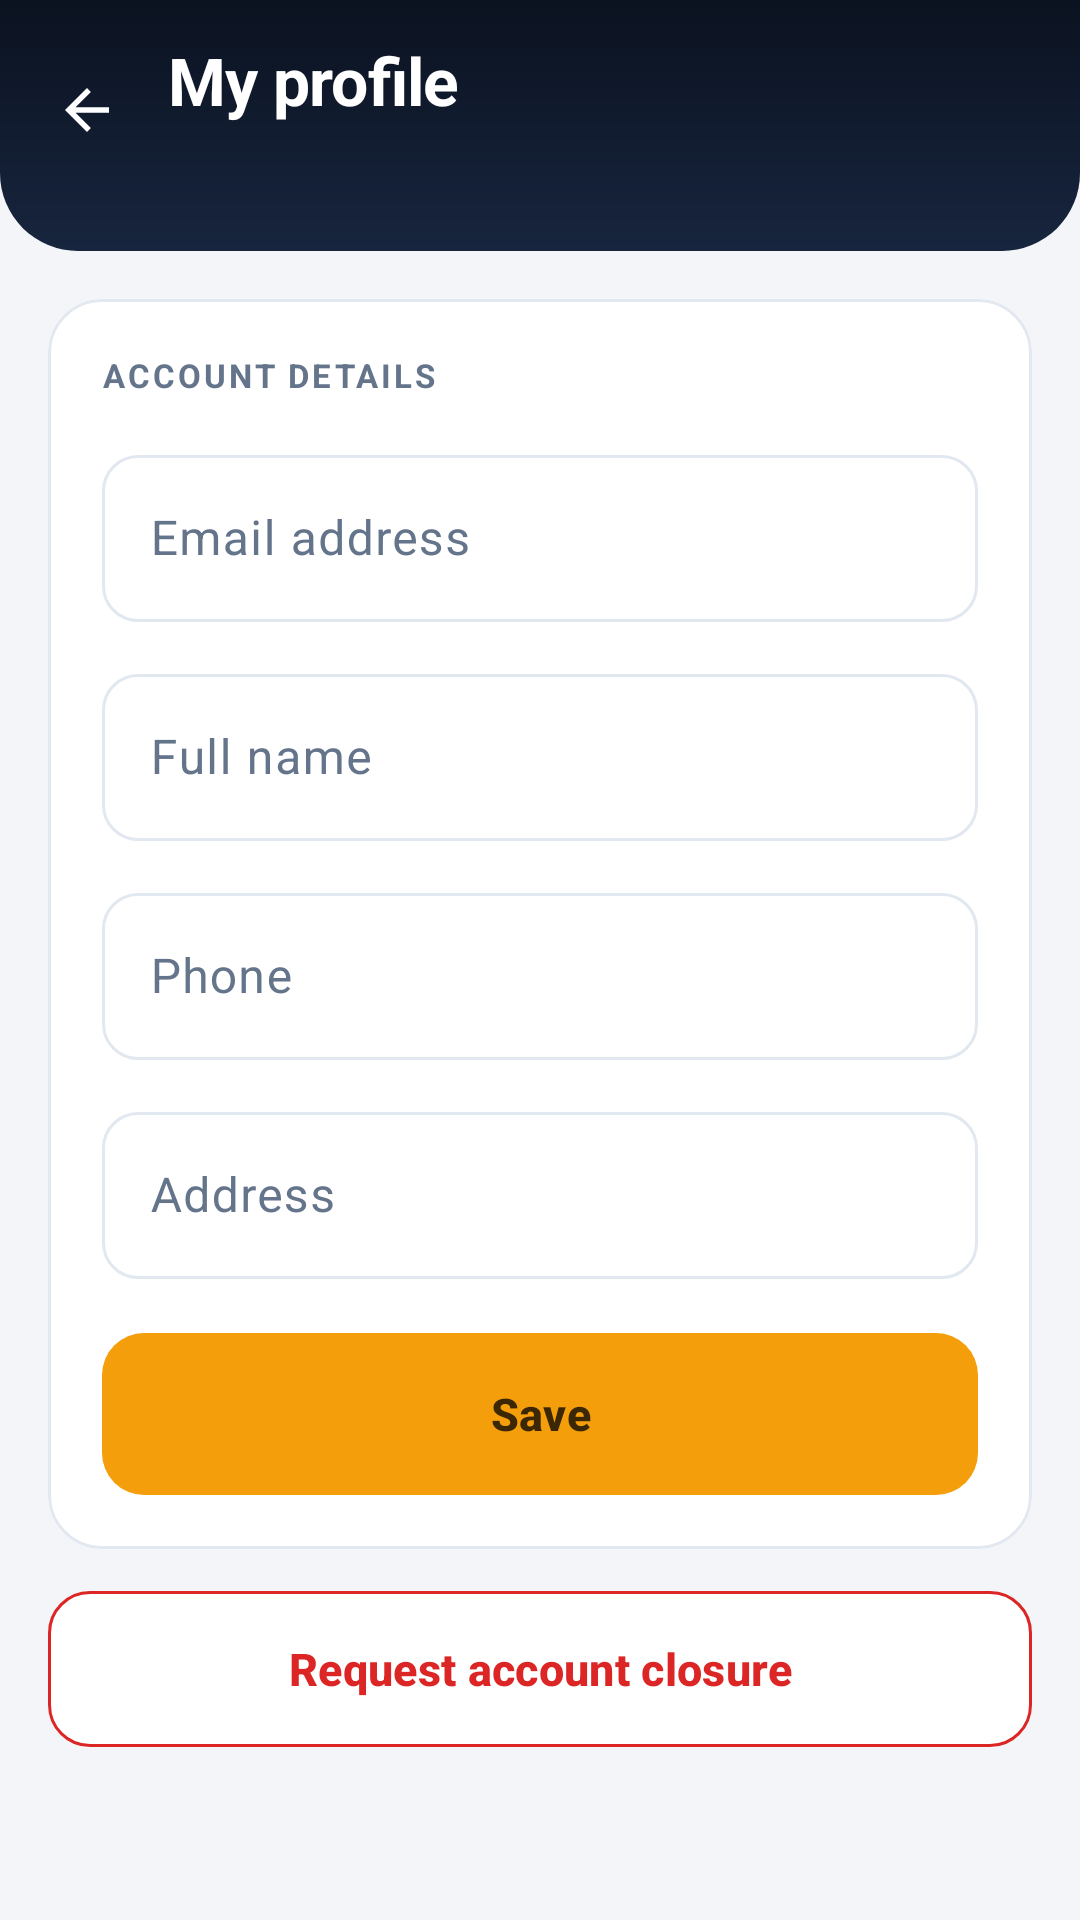

Icons on this 1080px×1920px Android screen, each with its box as (x1, y1, x2, y2):
Back: (65, 88, 109, 132)
